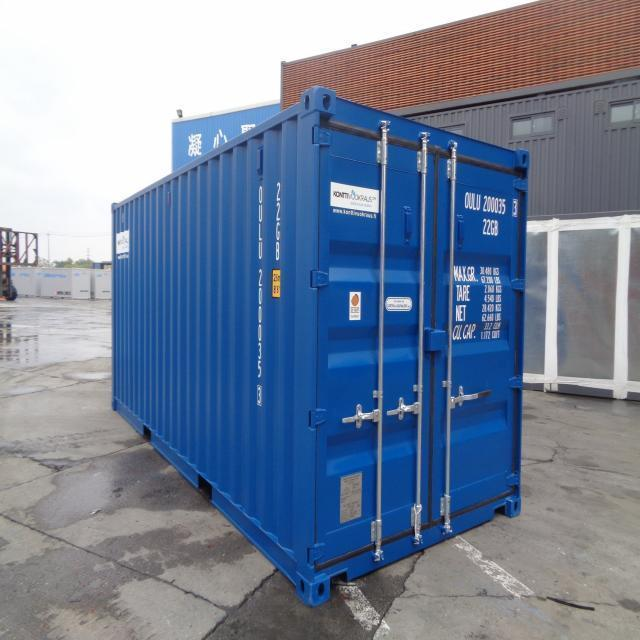ISO: (478, 218, 502, 237)
container_number: (462, 193, 522, 216)
